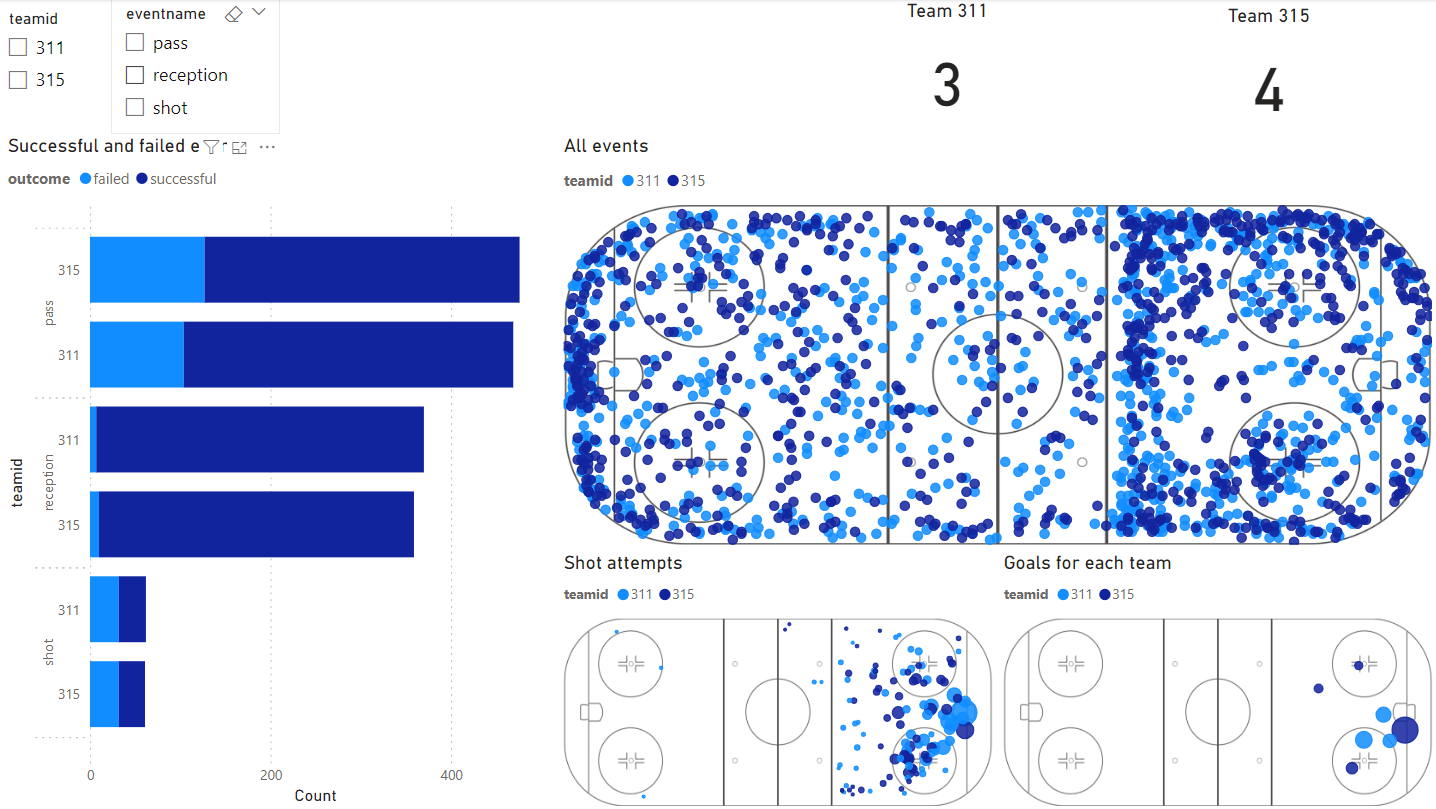

This screenshot's page, from the dashboard's own definition file:
{"tool":"powerbi","page":{"name":"Main","canvas":[1280,720],"ordinal":0},"visuals":[{"type":"scatterChart","title":"Shot attempts","fields":{"X":["gameData.xadjcoord"],"Y":["gameData.yadjcoord"],"Size":["Sum(gameData.xg)"],"Series":["gameData.teamid"]},"box":[499.9,489.2,390,230.5],"z":0},{"type":"card","title":"Team 311","fields":{"Values":["Sum(gameData.goal)"]},"box":[695.4,0,300.5,119.6],"z":1000},{"type":"card","title":"Team 315","fields":{"Values":["Sum(gameData.goal)"]},"box":[980.4,4.9,299.6,119.6],"z":2000},{"type":"barChart","title":"Successful and failed events ","fields":{"Category":["gameData.eventname","gameData.teamid"],"Y":["CountNonNull(gameData.compiledgametime)"],"Series":["gameData.outcome"]},"box":[6.8,119.6,493.1,600.1],"z":3000},{"type":"scatterChart","title":"Goals for each team","fields":{"X":["gameData.xadjcoord"],"Y":["gameData.yadjcoord"],"Size":["Sum(gameData.xg)"],"Series":["gameData.teamid"]},"box":[890,489.2,390,230.5],"z":4000},{"type":"scatterChart","title":"All events","fields":{"X":["gameData.xadjcoord"],"Y":["gameData.yadjcoord"],"Series":["gameData.teamid"]},"box":[499.9,119.6,780.1,369.6],"z":5000},{"type":"slicer","fields":{"Values":["gameData.teamid"]},"box":[0,4.9,104.1,114.8],"z":6000},{"type":"slicer","fields":{"Values":["gameData.eventname"]},"box":[104.1,0,149.8,119.6],"z":6001}]}

Visuals, with their boxes in screenshot pixels (x1, y1, x2, y2), scaled from the page's 1280x720 canvas onto the 1436x809 screenshot:
"Shot attempts" scatterChart: rect(561, 550, 998, 808)
"Team 311" card: rect(780, 0, 1117, 134)
"Team 315" card: rect(1100, 6, 1435, 140)
"Successful and failed events " barChart: rect(8, 134, 561, 808)
"Goals for each team" scatterChart: rect(998, 550, 1435, 808)
"All events" scatterChart: rect(561, 134, 1435, 550)
slicer - gameData.teamid: rect(0, 6, 117, 134)
slicer - gameData.eventname: rect(117, 0, 285, 134)
